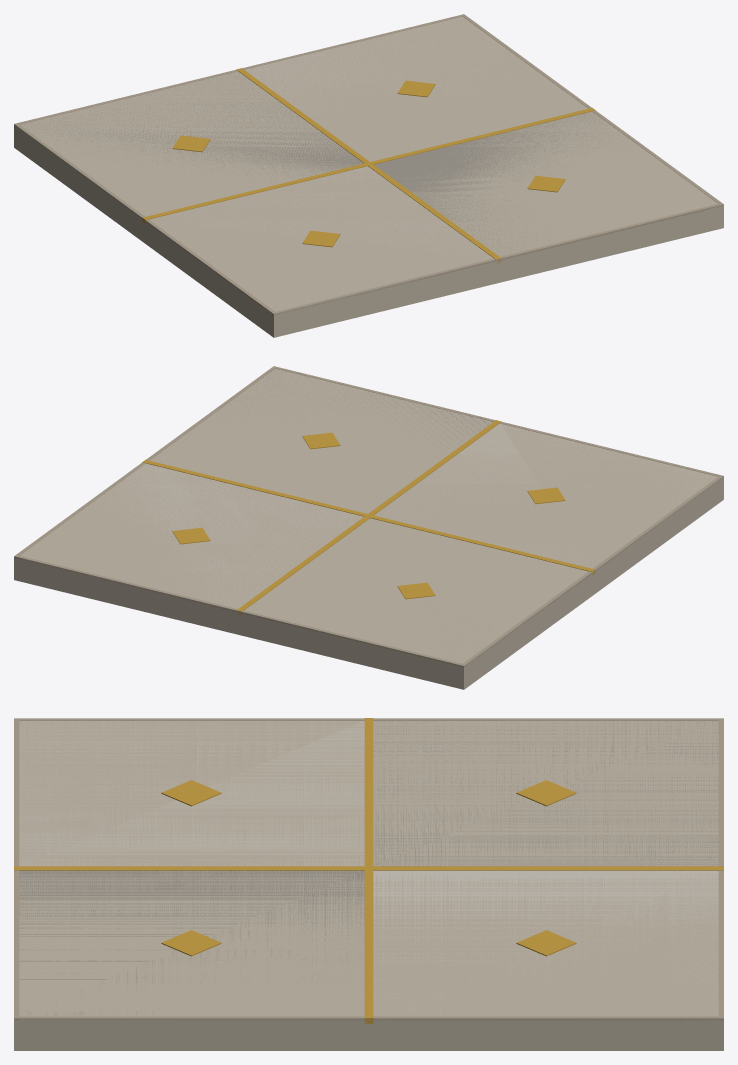
File: kit-paris-floor.glb
3 views of the same model, one above another, from view 1: azimuth 30°, elevation 25°; view 2: azimuth 150°, elevation 25°; view 3: azimuth 270°, elevation 25° (orthographic). The views are drawn at different scales.
Visible parts, largest first — view 1: kit-paris-floor; view 2: kit-paris-floor; view 3: kit-paris-floor.
Boxes of the visible parts, x1=… form: kit-paris-floor: x1=14, y1=14, x2=723, y2=337; kit-paris-floor: x1=14, y1=366, x2=723, y2=689; kit-paris-floor: x1=14, y1=718, x2=723, y2=1050.
Size of the model in its own units: 2 by 0.103 by 2.
